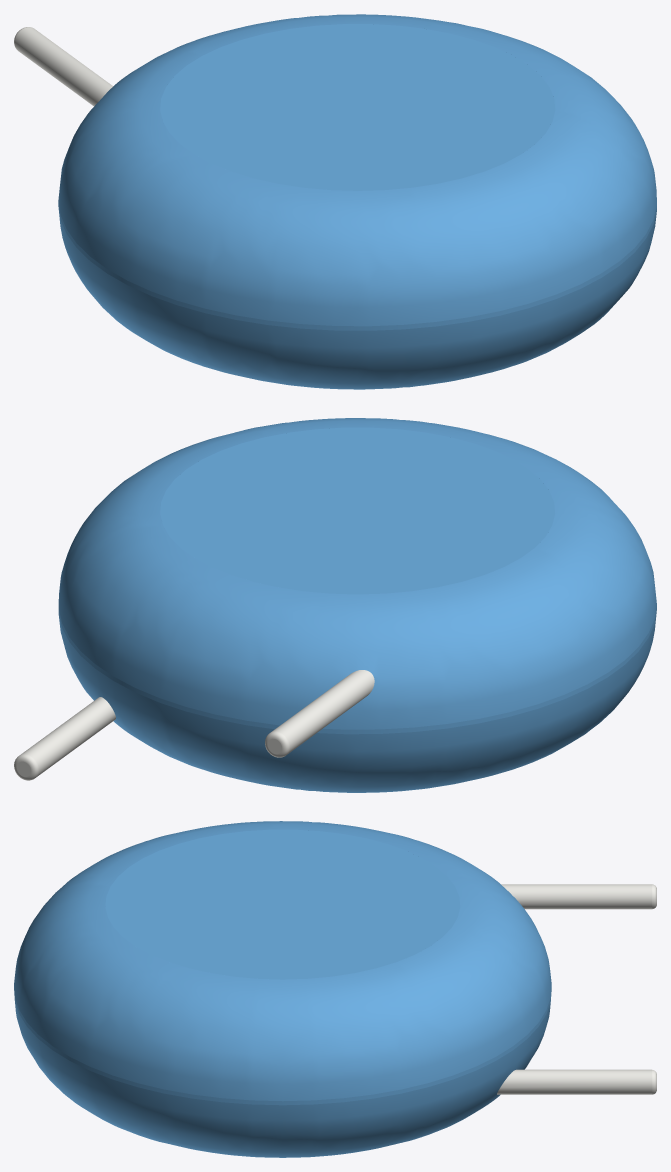
File: RV_Disc_D15.5mm_W5.4mm_P7.5mm.glb
3 renders of one model, top to bottom at view 1: azimuth 30°, elevation 25°; view 2: azimuth 150°, elevation 25°; view 3: azimuth 270°, elevation 25°, orthographic. The views are drawn at different scales.
Parts seen in each view (by area): view 1: Shape_IndexedFaceSet.001, Shape_IndexedFaceSet.003, Shape_IndexedFaceSet.002, Shape_IndexedFaceSet, Shape_IndexedFaceSet.004; view 2: Shape_IndexedFaceSet.001, Shape_IndexedFaceSet.003, Shape_IndexedFaceSet.002, Shape_IndexedFaceSet.004, Shape_IndexedFaceSet, Shape_IndexedFaceSet.006; view 3: Shape_IndexedFaceSet.001, Shape_IndexedFaceSet.003, Shape_IndexedFaceSet.002, Shape_IndexedFaceSet.006, Shape_IndexedFaceSet.004, Shape_IndexedFaceSet.
Boxes of the visible parts, box(x1,y1,x2,y2) form: Shape_IndexedFaceSet.001: box(58, 14, 656, 326); Shape_IndexedFaceSet.003: box(160, 24, 555, 190); Shape_IndexedFaceSet.002: box(58, 209, 656, 389); Shape_IndexedFaceSet: box(58, 202, 656, 330); Shape_IndexedFaceSet.004: box(14, 27, 113, 106); Shape_IndexedFaceSet.001: box(58, 418, 656, 729); Shape_IndexedFaceSet.003: box(160, 427, 555, 594); Shape_IndexedFaceSet.002: box(58, 610, 656, 792); Shape_IndexedFaceSet.004: box(271, 670, 374, 754); Shape_IndexedFaceSet: box(58, 606, 656, 734); Shape_IndexedFaceSet.006: box(20, 697, 115, 777); Shape_IndexedFaceSet.001: box(14, 821, 551, 1101); Shape_IndexedFaceSet.003: box(105, 829, 460, 979); Shape_IndexedFaceSet.002: box(15, 1002, 550, 1157); Shape_IndexedFaceSet.006: box(497, 1069, 651, 1094); Shape_IndexedFaceSet.004: box(501, 884, 651, 909); Shape_IndexedFaceSet: box(14, 987, 551, 1105).
Size of the model in its own units: 6.1 by 2.13 by 7.29.
